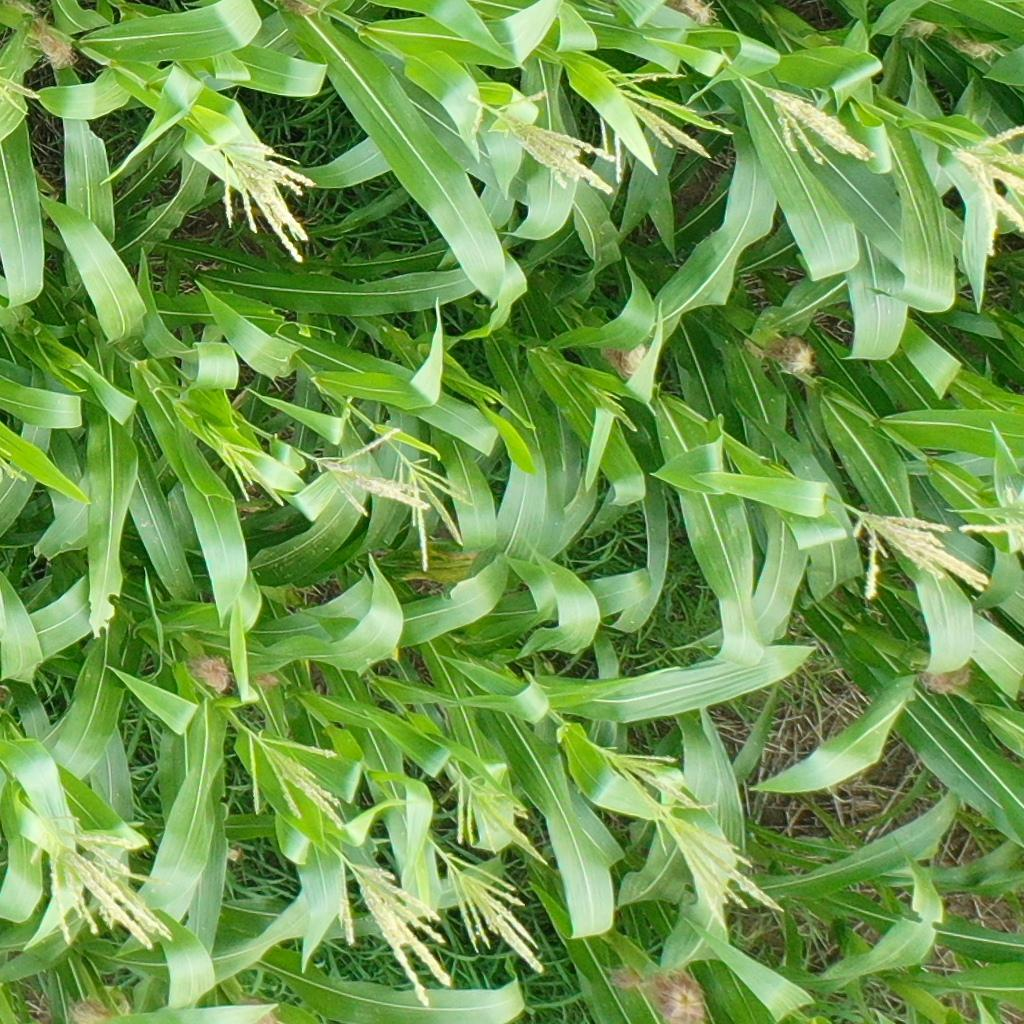Tassel: (27, 812, 174, 954), (336, 851, 453, 1008), (467, 85, 619, 199), (655, 808, 784, 932), (598, 61, 733, 179), (846, 503, 990, 602), (212, 135, 318, 264), (443, 855, 549, 973), (448, 760, 553, 865), (312, 427, 430, 518), (246, 731, 349, 831), (954, 123, 1024, 258), (764, 86, 878, 167), (396, 451, 472, 572), (603, 743, 696, 810), (218, 439, 285, 508), (957, 485, 1024, 548), (592, 383, 643, 434), (1, 67, 39, 113), (1, 445, 29, 489)
